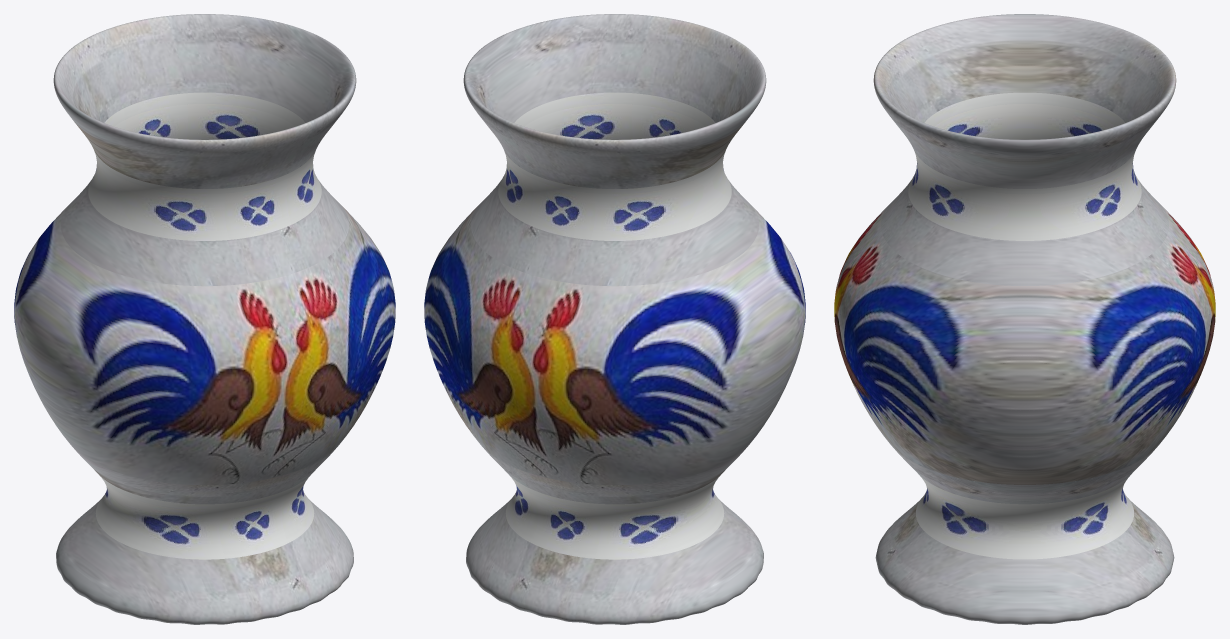
3 views of the same model, side by side, from view 1: azimuth 30°, elevation 25°; view 2: azimuth 150°, elevation 25°; view 3: azimuth 270°, elevation 25° (orthographic).
Visible parts, largest first — view 1: Cilindro; view 2: Cilindro; view 3: Cilindro.
Part boxes in pixels (x1=…): Cilindro: x1=14, y1=14, x2=395, y2=624; Cilindro: x1=424, y1=14, x2=805, y2=624; Cilindro: x1=834, y1=14, x2=1215, y2=624.
Size of the model in its own units: 1.17 by 1.68 by 1.17.
Materials: 3 (3 with a texture image).
